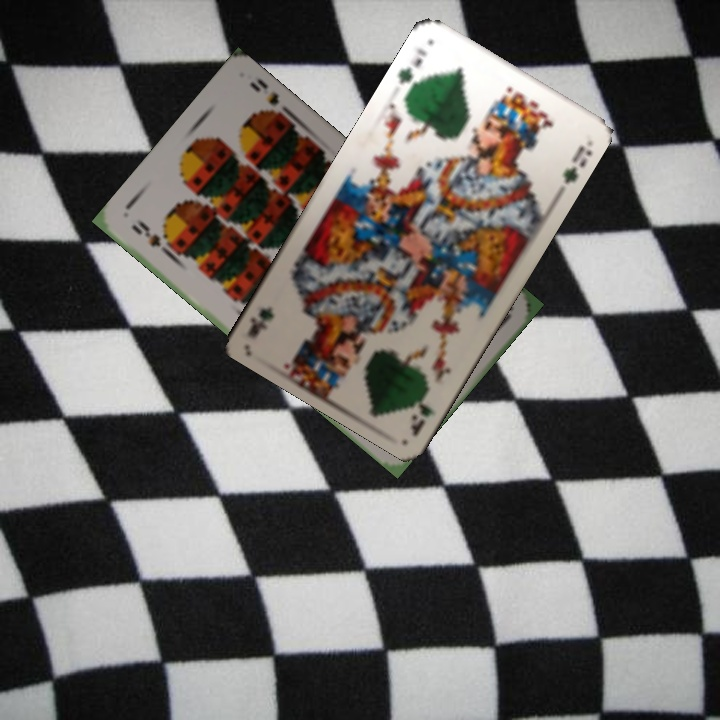GK: (406, 378, 438, 438), (393, 43, 429, 87)
S9: (127, 218, 176, 259)
